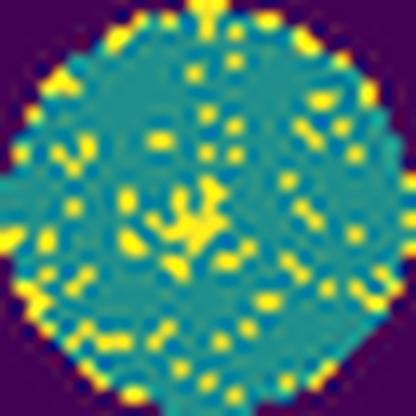Center: (136, 175, 238, 267)
